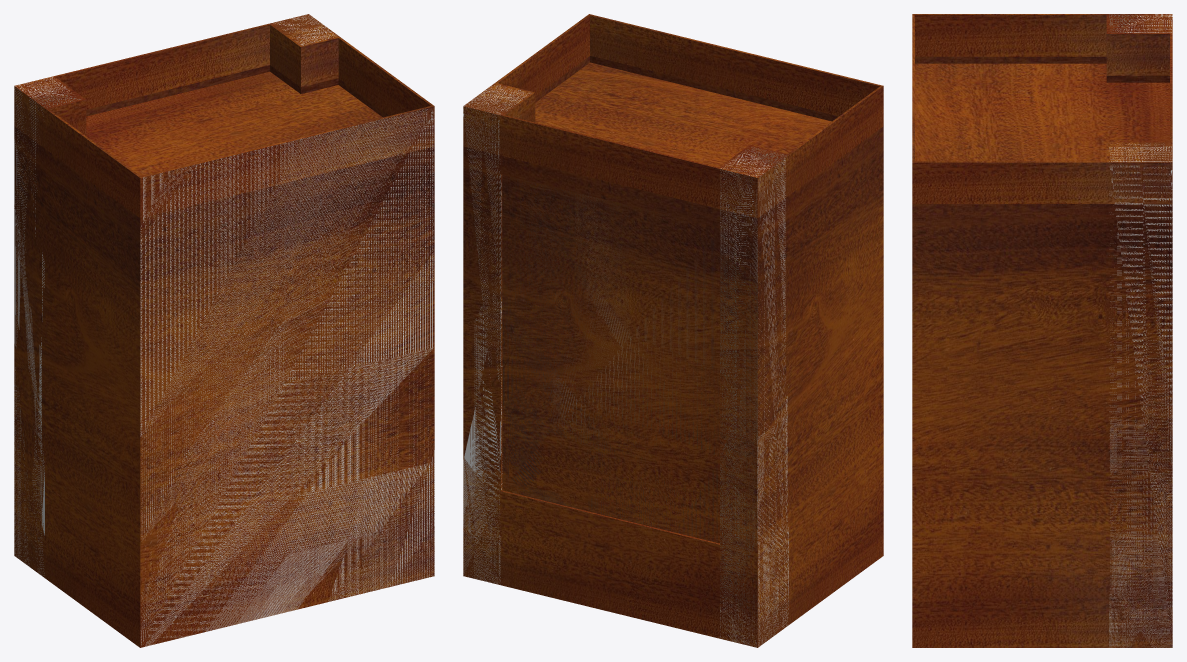
3 renders of one model, left to right at view 1: azimuth 30°, elevation 25°; view 2: azimuth 150°, elevation 25°; view 3: azimuth 270°, elevation 25°, orthographic. The views are drawn at different scales.
Visible parts, largest first — view 1: mesh1_mesh1-geometry; view 2: mesh1_mesh1-geometry; view 3: mesh1_mesh1-geometry.
Part boxes in pixels (x1,y1,x2,y2): mesh1_mesh1-geometry: (14,14,434,647); mesh1_mesh1-geometry: (463,14,883,647); mesh1_mesh1-geometry: (912,14,1172,647).
Bounding box in the file's own units: 0.5082 × 0.7746 × 0.3765.
